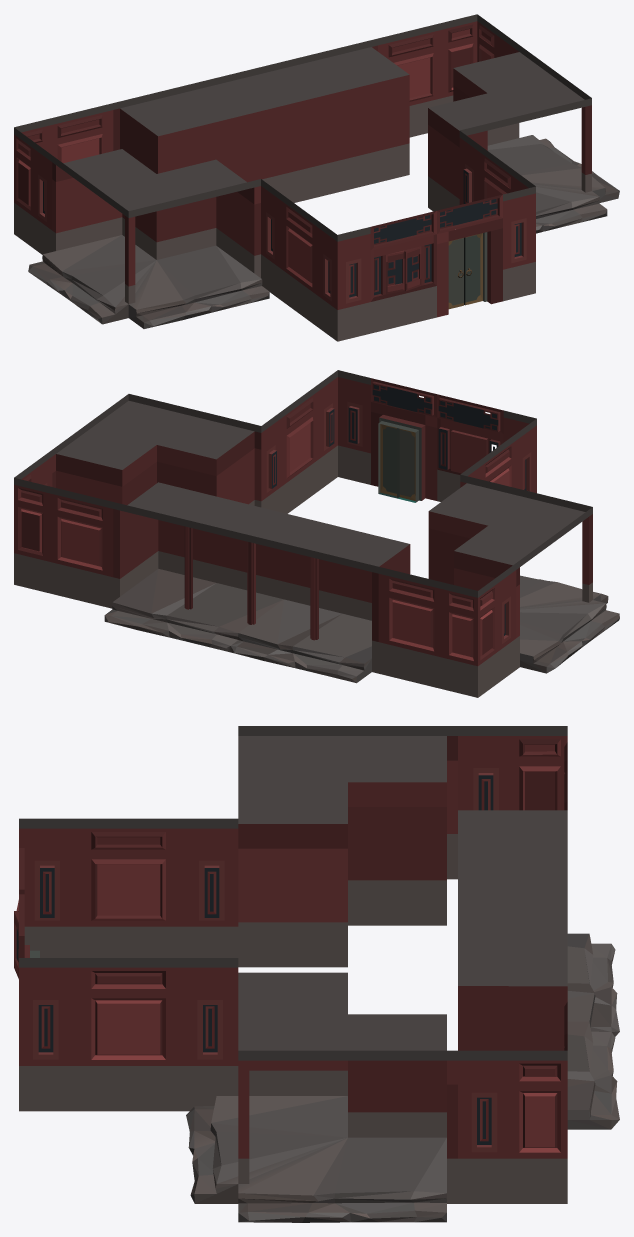
File: BuildingA-T_B.fbx
3 views of the same model, one above another, from view 1: azimuth 30°, elevation 25°; view 2: azimuth 150°, elevation 25°; view 3: azimuth 270°, elevation 25° (orthographic). The views are drawn at different scales.
Visible parts, largest first — view 1: BuildingA-T_B; view 2: BuildingA-T_B; view 3: BuildingA-T_B.
Part boxes in pixels (bbox=[...]): BuildingA-T_B: bbox=[14, 14, 619, 341]; BuildingA-T_B: bbox=[14, 370, 619, 697]; BuildingA-T_B: bbox=[14, 726, 619, 1222].
Bounding box in the file's own units: 1989 × 386 × 1381.
